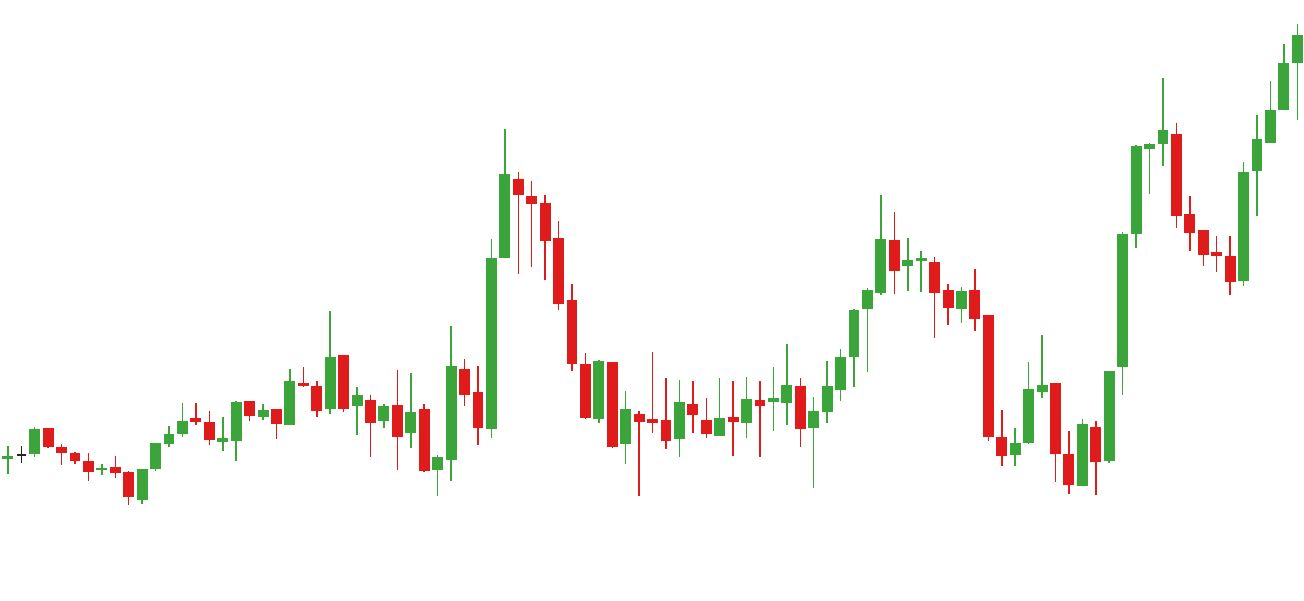buy: (995, 385, 1090, 499)
